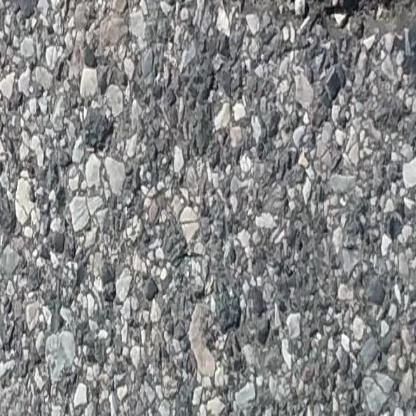Cracks: (206, 0, 416, 28)
